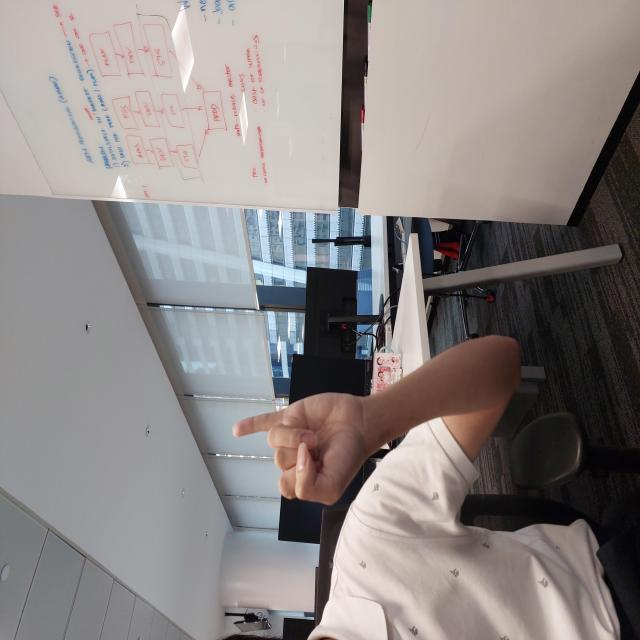I: (134, 229, 250, 368)
